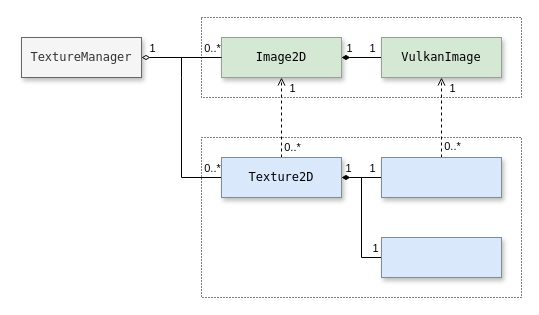
This 539x315 diagram has some shape labels left out. The centre of each missing label's shape, as x and y in pixels:
VulkanImageView: point 442,178
VulkanSampler: point 442,258
